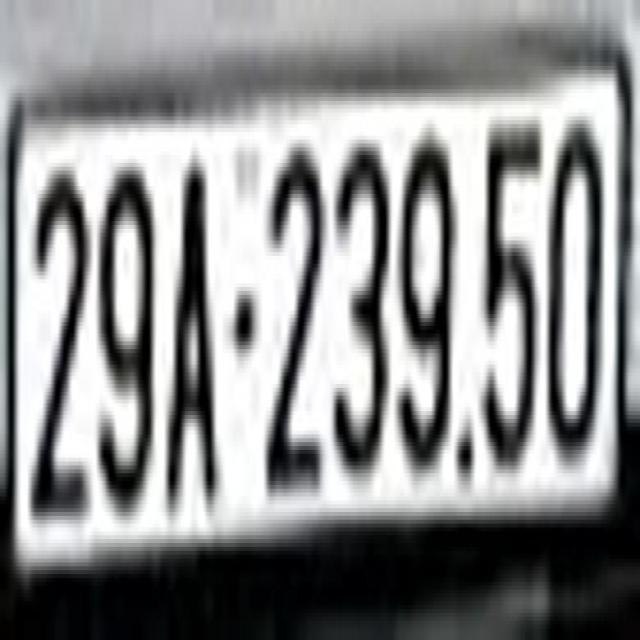0: (550, 112, 602, 458)
2: (33, 167, 90, 508), (267, 148, 323, 474)
3: (336, 120, 390, 454)
5: (486, 120, 540, 454)
9: (98, 151, 162, 508), (403, 132, 451, 465)
A: (167, 159, 215, 516)
